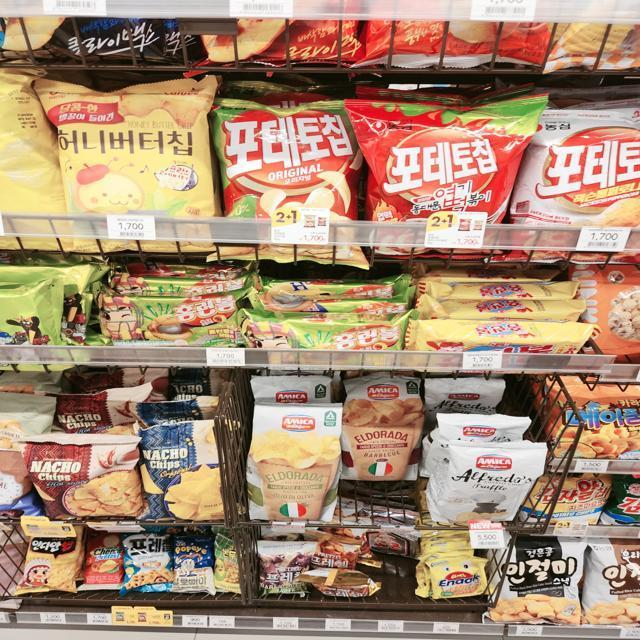product: (345, 89, 541, 273), (34, 79, 218, 247), (209, 95, 370, 269), (17, 439, 149, 534), (250, 403, 341, 532), (134, 415, 234, 531), (551, 112, 640, 232), (91, 293, 250, 355), (337, 375, 420, 481), (414, 314, 593, 362), (492, 530, 574, 629), (453, 446, 537, 525), (254, 314, 401, 359), (561, 380, 640, 461), (1, 283, 59, 358), (587, 260, 640, 339), (598, 545, 640, 629), (22, 531, 77, 594), (554, 471, 610, 531), (257, 539, 311, 598), (170, 531, 221, 592), (424, 557, 486, 595), (128, 538, 166, 583)
